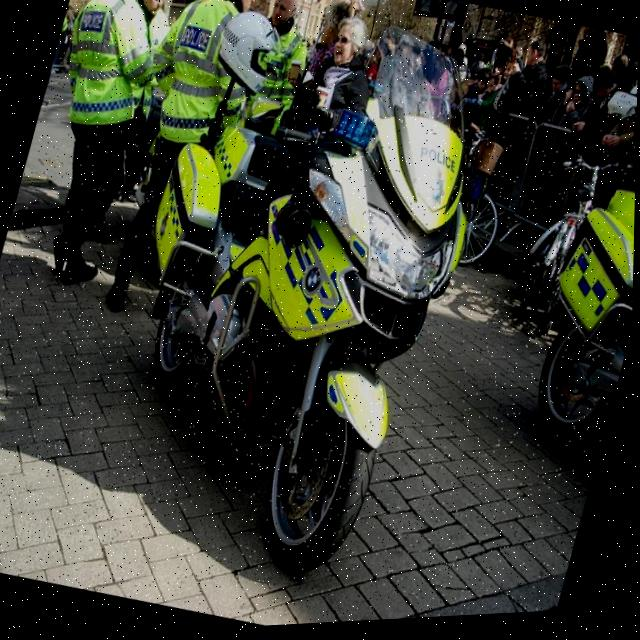motorcycle: (63, 0, 506, 602)
